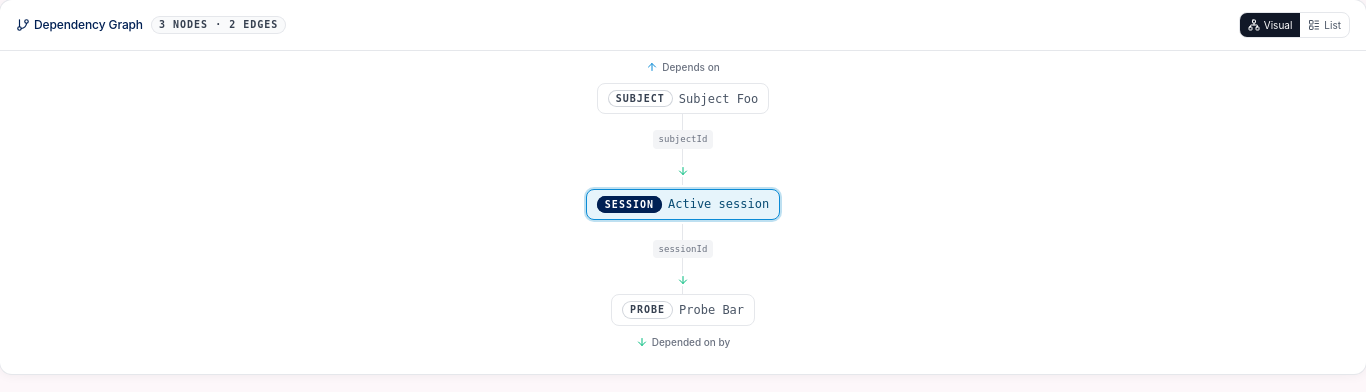
Scenario: DependencyGraphView — Phase 6.6 REBUILD-9 › clicking the List toggle switches view to text mode
Expected: the text "Subject Foo" is shown, [679,91,758,107]
Click the button "List".
click(1325, 25)  # box [1300,13,1349,37]
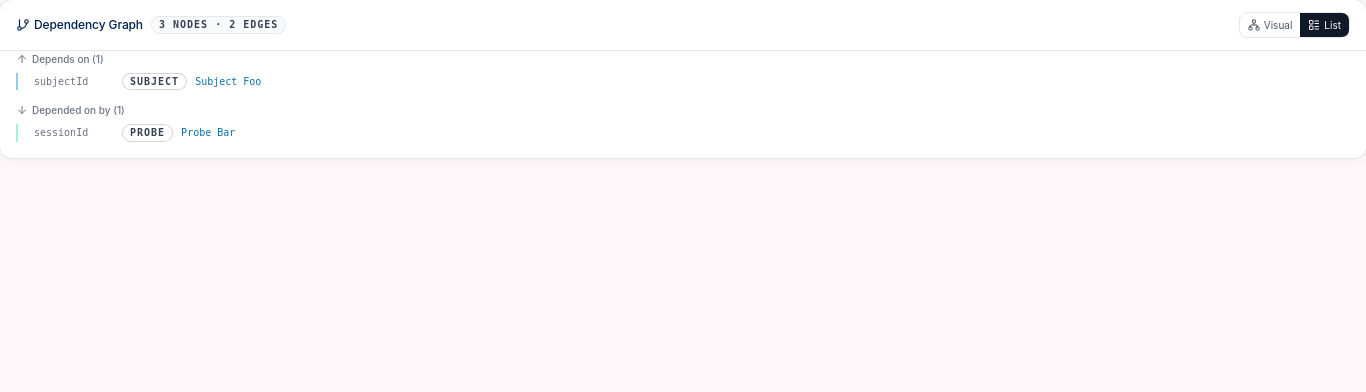
Expected: the text "Depends on (1)" is shown, [16,53,104,65]
Expected: the text "Depended on by (1)" is shown, [16,104,125,116]
